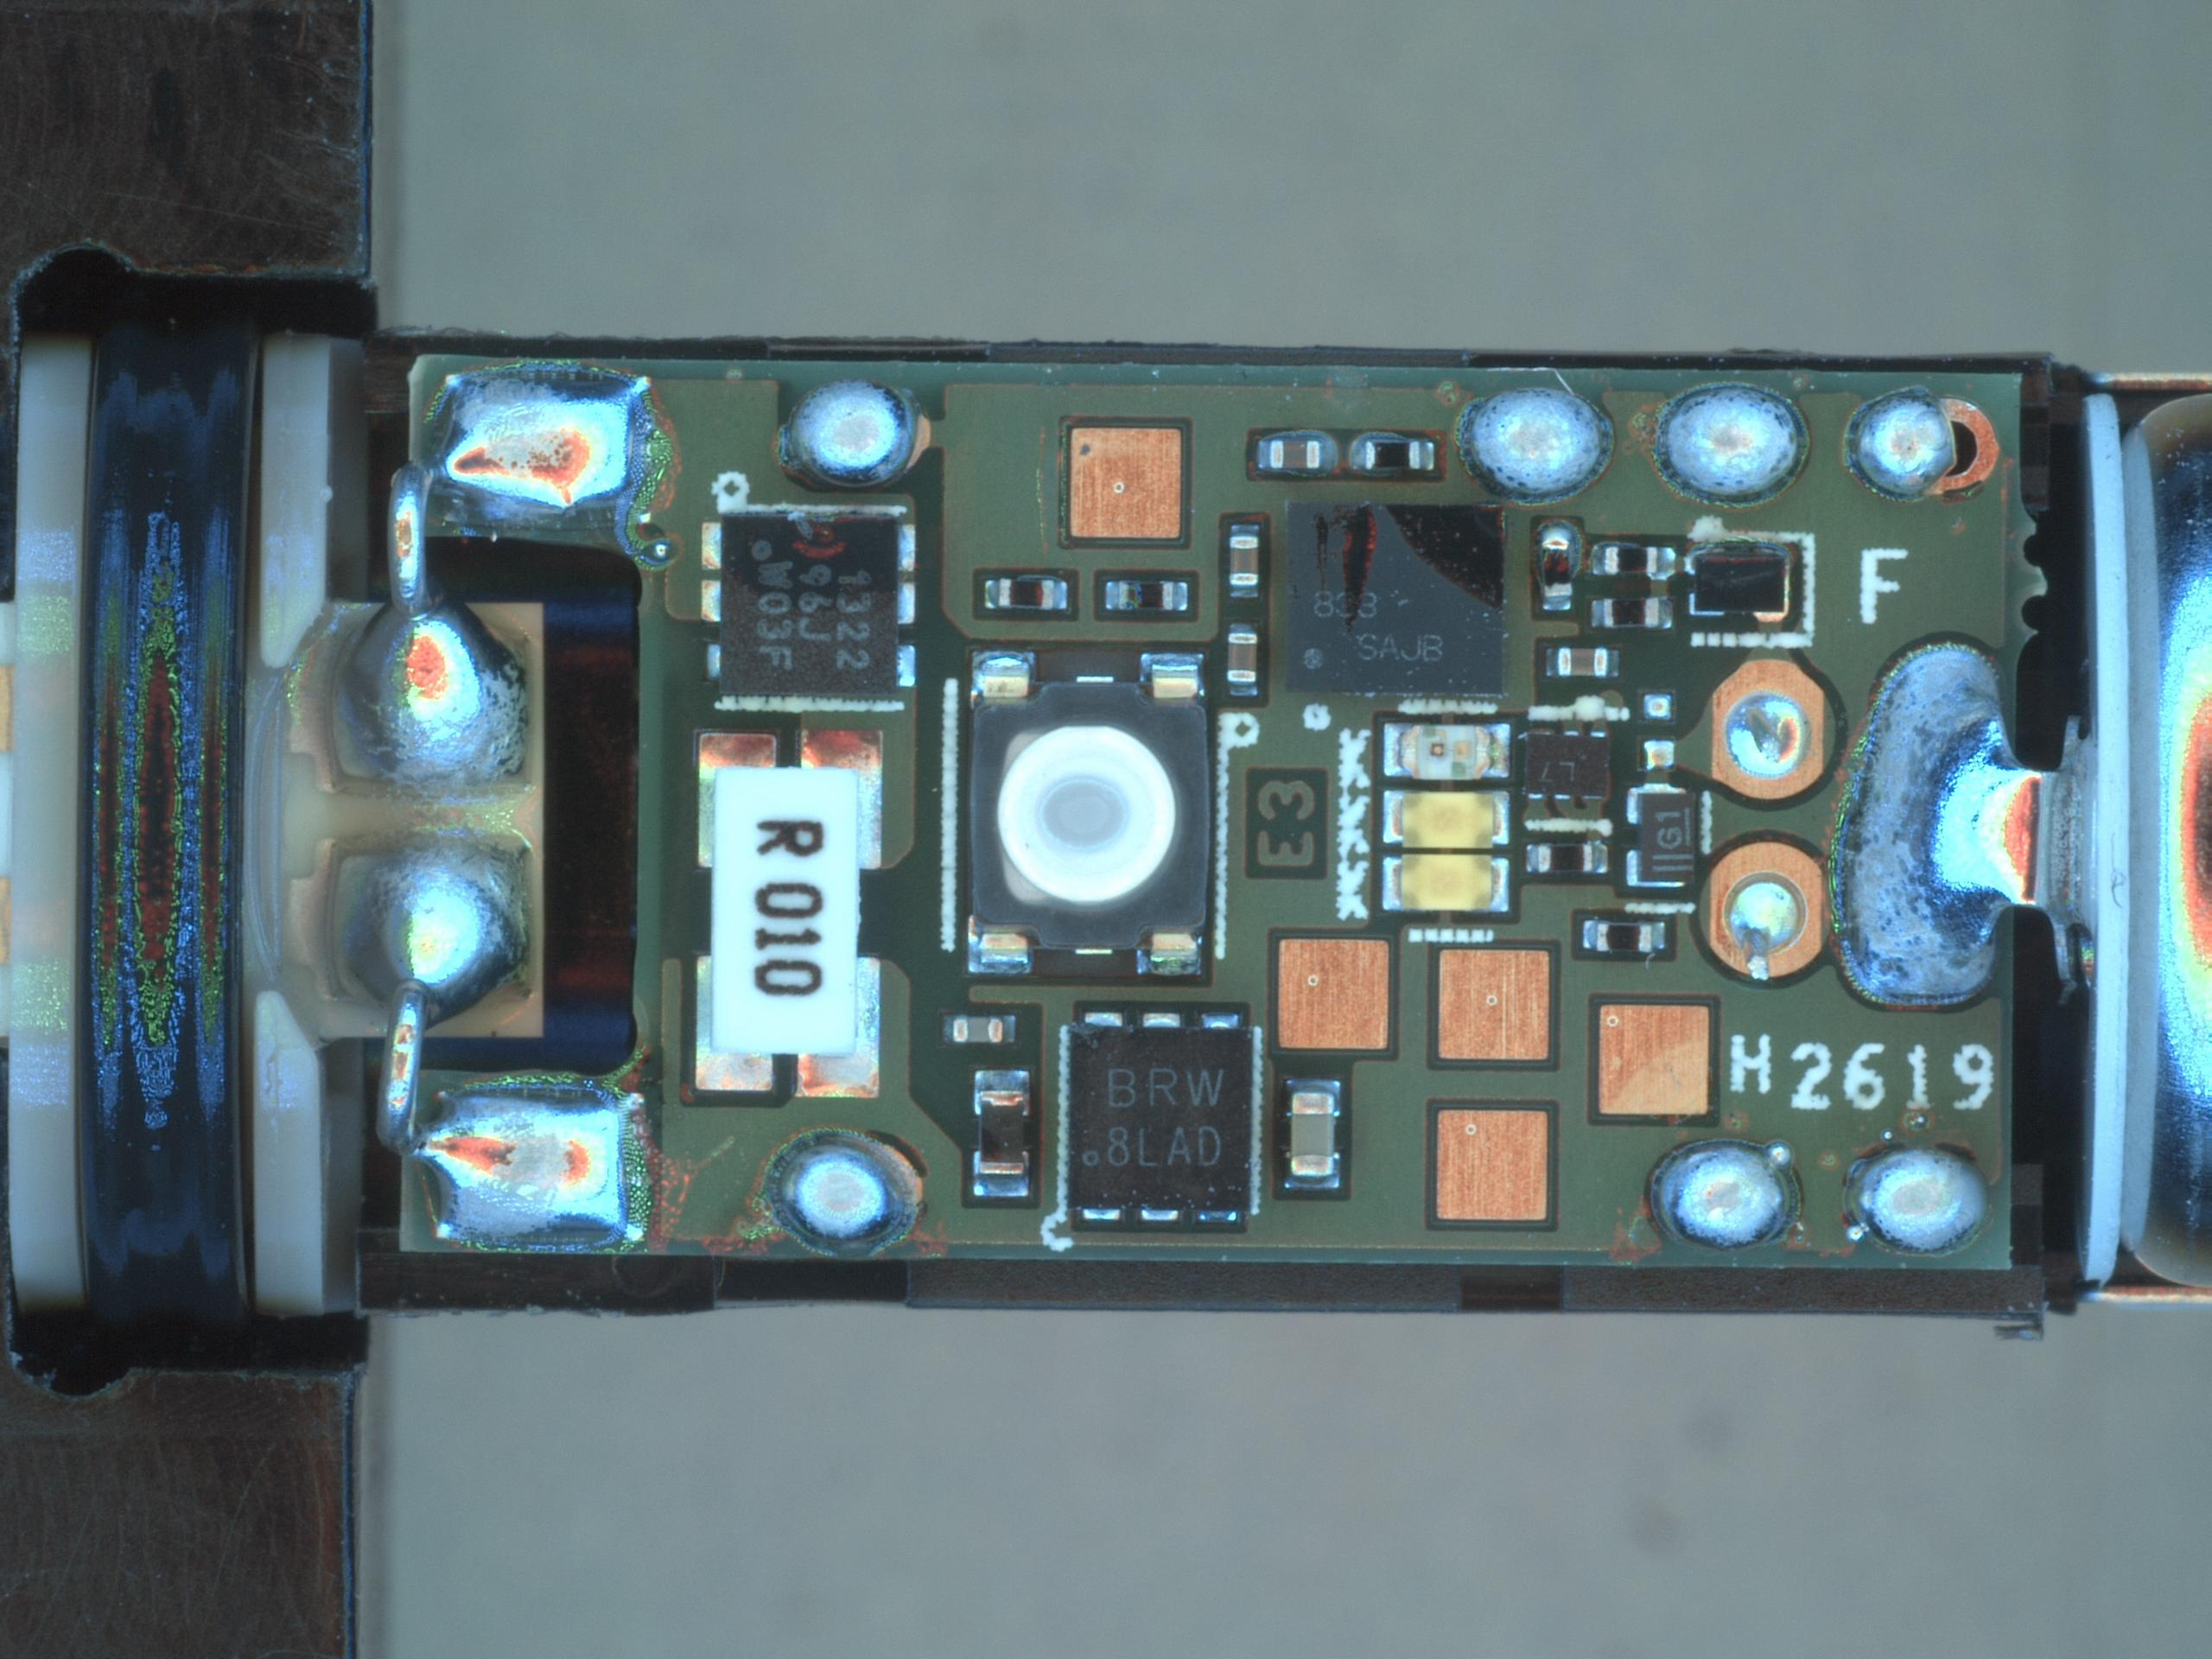solder: (1846, 389, 2003, 500)
solderball: (648, 538, 671, 561), (1770, 1145, 1792, 1164), (1846, 1223, 1867, 1241), (1883, 1129, 1893, 1141)
